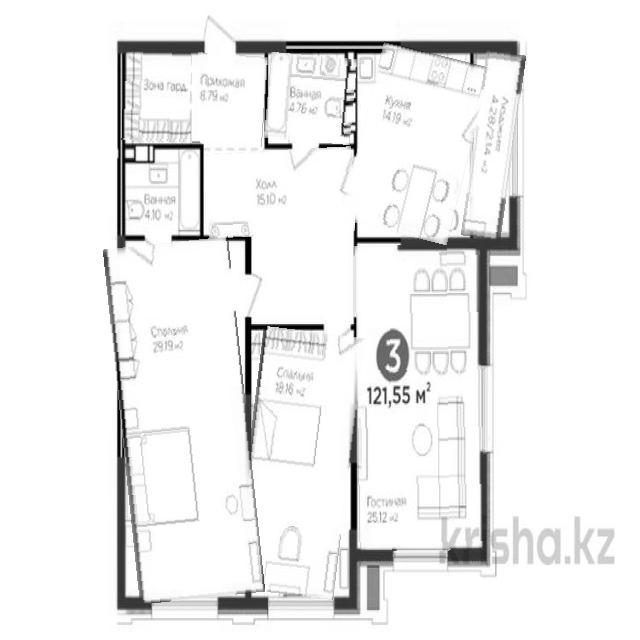balcony: (468, 51, 520, 240)
bathroom: (266, 54, 356, 144), (121, 146, 199, 234)
hallway: (205, 148, 354, 237), (193, 53, 267, 146)
kitchen: (350, 47, 481, 240)
living_room: (112, 239, 256, 602), (356, 245, 483, 551), (240, 329, 358, 598)
other: (122, 48, 191, 142)
